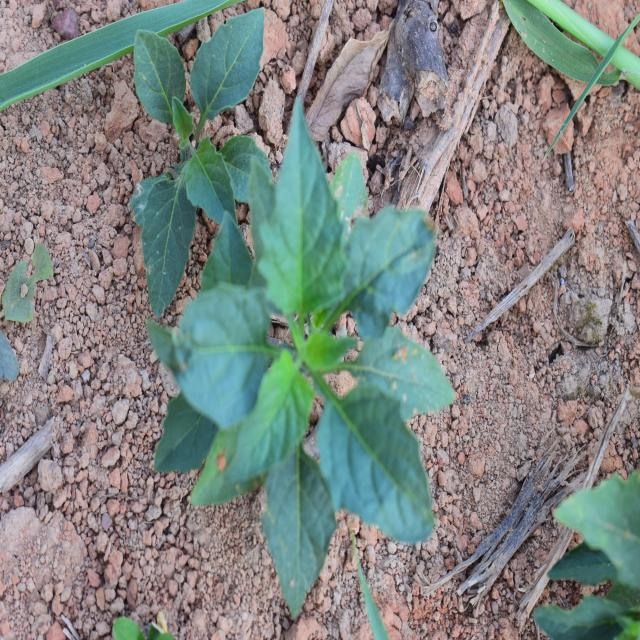Black_nightshade: (213, 140, 443, 562), (133, 34, 285, 282)
